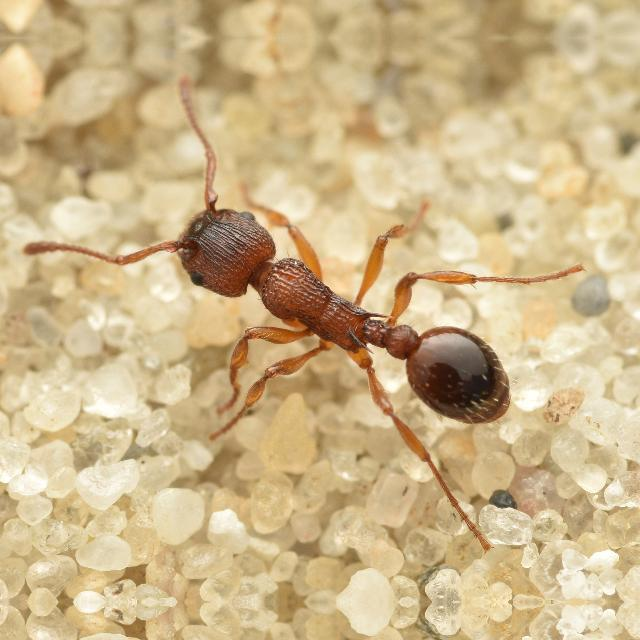Myrmica: (120, 141, 570, 463)
